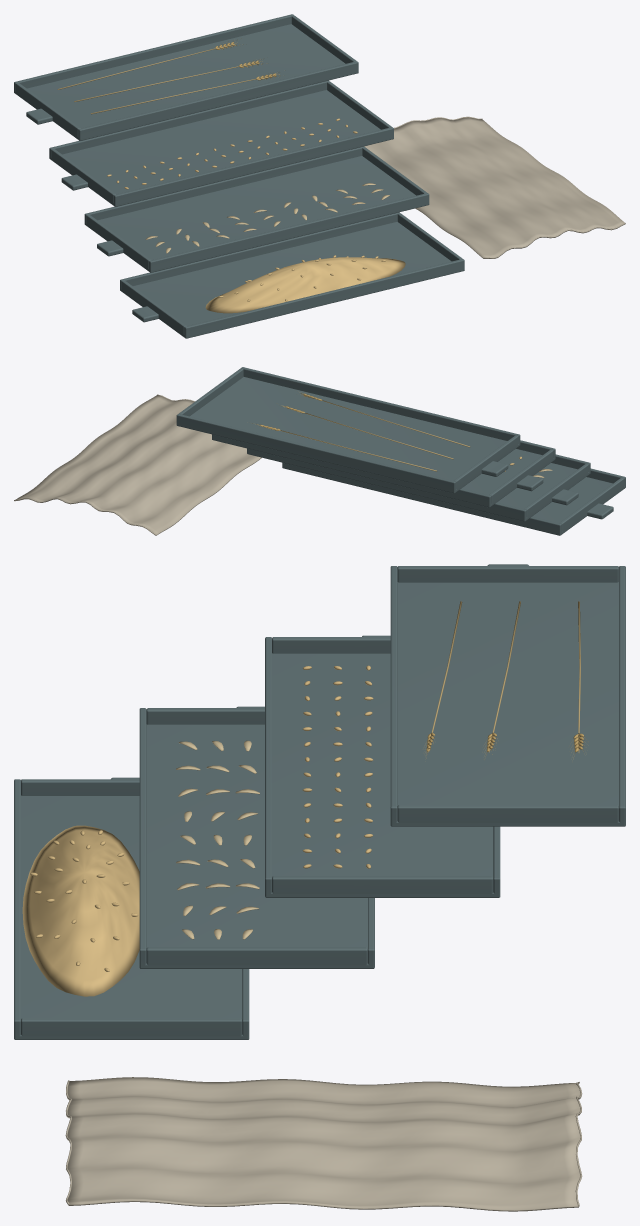
File: ruth-grain.glb
3 views of the same model, one above another, from view 1: azimuth 30°, elevation 25°; view 2: azimuth 150°, elevation 25°; view 3: azimuth 270°, elevation 25° (orthographic). The views are drawn at different scales.
Visible parts, largest first — view 1: ruth-grain-ruth-modern-removable-display-trays.003, ruth-grain-ruth-modern-removable-display-trays.002, ruth-grain-ruth-modern-removable-display-trays.001, ruth-grain-ruth-ordinary-shawl-teaching-choice, ruth-grain-ruth-modern-removable-display-trays, ruth-grain-ruth-unspecified-cereal-kernels, ruth-grain-ruth-selected-mature-cereal-straw, ruth-grain-ruth-selected-thin-chaff, ruth-grain-ruth-unspecified-cereal-kernels.001; view 2: ruth-grain-ruth-modern-removable-display-trays.003, ruth-grain-ruth-ordinary-shawl-teaching-choice, ruth-grain-ruth-modern-removable-display-trays, ruth-grain-ruth-modern-removable-display-trays.002, ruth-grain-ruth-modern-removable-display-trays.001, ruth-grain-ruth-selected-mature-cereal-straw; view 3: ruth-grain-ruth-ordinary-shawl-teaching-choice, ruth-grain-ruth-modern-removable-display-trays.003, ruth-grain-ruth-modern-removable-display-trays.002, ruth-grain-ruth-modern-removable-display-trays.001, ruth-grain-ruth-modern-removable-display-trays, ruth-grain-ruth-unspecified-cereal-kernels, ruth-grain-ruth-selected-thin-chaff, ruth-grain-ruth-unspecified-cereal-kernels.001, ruth-grain-ruth-selected-mature-cereal-straw.
Part boxes in pixels (x1,y1,x2,y2): ruth-grain-ruth-modern-removable-display-trays.003: (14, 14, 358, 140); ruth-grain-ruth-modern-removable-display-trays.002: (49, 80, 393, 206); ruth-grain-ruth-modern-removable-display-trays.001: (84, 146, 429, 272); ruth-grain-ruth-ordinary-shawl-teaching-choice: (364, 116, 625, 258); ruth-grain-ruth-modern-removable-display-trays: (120, 212, 464, 338); ruth-grain-ruth-unspecified-cereal-kernels: (205, 255, 405, 313); ruth-grain-ruth-selected-mature-cereal-straw: (57, 38, 280, 114); ruth-grain-ruth-selected-thin-chaff: (145, 183, 390, 253); ruth-grain-ruth-unspecified-cereal-kernels.001: (107, 118, 357, 189); ruth-grain-ruth-modern-removable-display-trays.003: (176, 367, 520, 493); ruth-grain-ruth-ordinary-shawl-teaching-choice: (14, 394, 261, 535); ruth-grain-ruth-modern-removable-display-trays: (282, 462, 625, 535); ruth-grain-ruth-modern-removable-display-trays.002: (212, 434, 555, 507); ruth-grain-ruth-modern-removable-display-trays.001: (247, 448, 590, 521); ruth-grain-ruth-selected-mature-cereal-straw: (251, 392, 470, 471); ruth-grain-ruth-ordinary-shawl-teaching-choice: (65, 1077, 582, 1211); ruth-grain-ruth-modern-removable-display-trays.003: (390, 564, 625, 826); ruth-grain-ruth-modern-removable-display-trays.002: (265, 635, 500, 897); ruth-grain-ruth-modern-removable-display-trays.001: (139, 706, 374, 968); ruth-grain-ruth-modern-removable-display-trays: (14, 777, 249, 1039); ruth-grain-ruth-unspecified-cereal-kernels: (22, 825, 139, 996); ruth-grain-ruth-selected-thin-chaff: (176, 740, 259, 939); ruth-grain-ruth-unspecified-cereal-kernels.001: (302, 665, 373, 868); ruth-grain-ruth-selected-mature-cereal-straw: (425, 601, 588, 759).
Size of the model in its own units: 1.23 by 0.3539 by 0.78.
